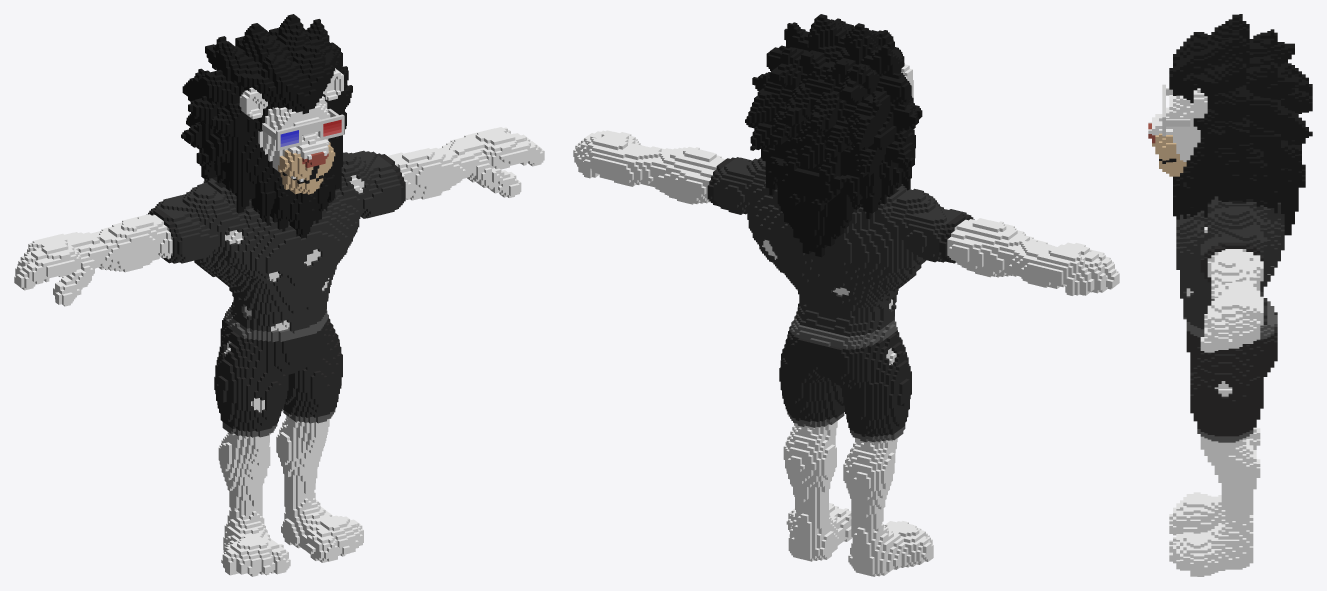
3 views of the same model, side by side, from view 1: azimuth 30°, elevation 25°; view 2: azimuth 150°, elevation 25°; view 3: azimuth 270°, elevation 25° (orthographic). The views are drawn at different scales.
Visible parts, largest first — view 1: smirk; view 2: smirk; view 3: smirk.
Boxes of the visible parts, x1,y1,x2,y2 form: smirk: (14, 14, 544, 576); smirk: (573, 14, 1119, 576); smirk: (1148, 14, 1312, 576).
Bounding box in the file's own units: 17.2 × 16.5 × 4.7.
Materials: 5 (5 with a texture image).
